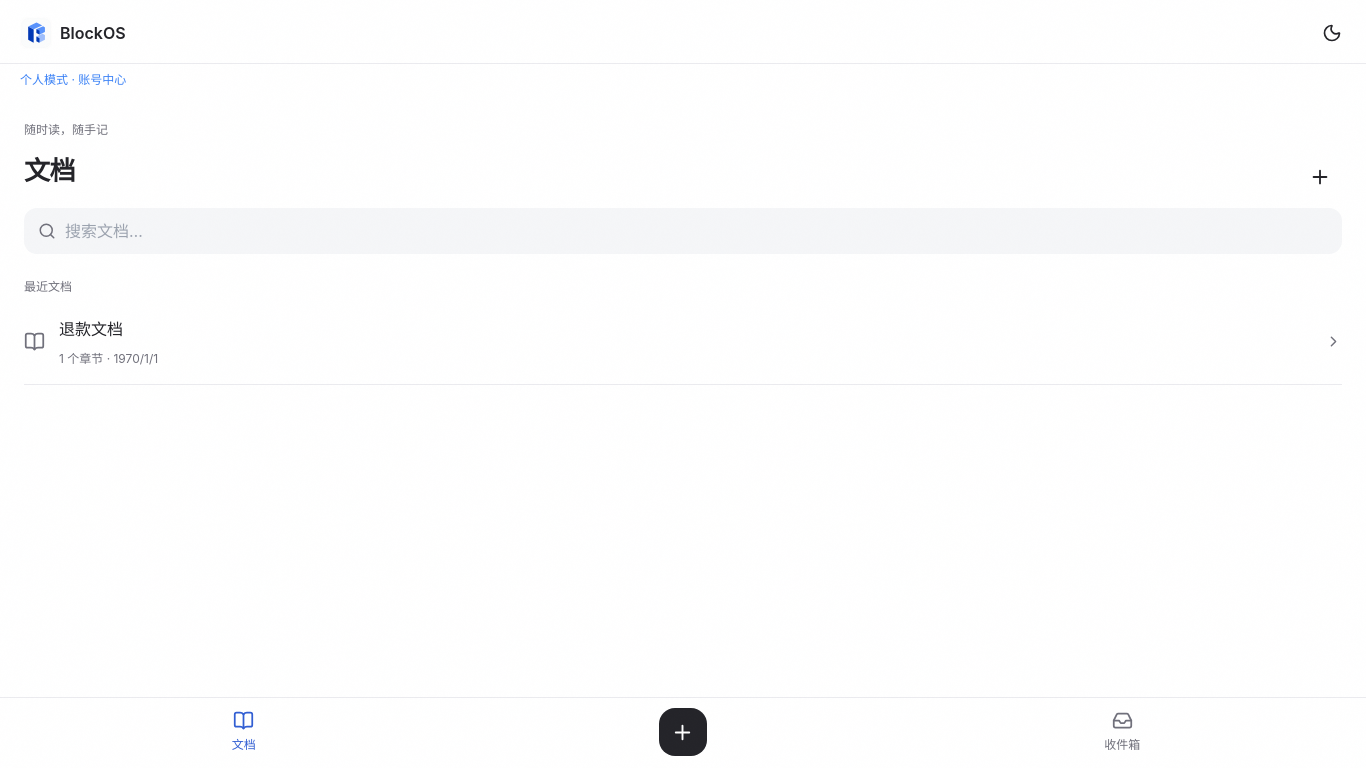
Test: Mobile reading, light editing and quick capture › reads multiple blocks in one chapter and updates text without moving desktop blocks
Click the button "退款文档 1 个章节 · 1970/1/1" at (91, 329), box [24, 300, 1342, 385]
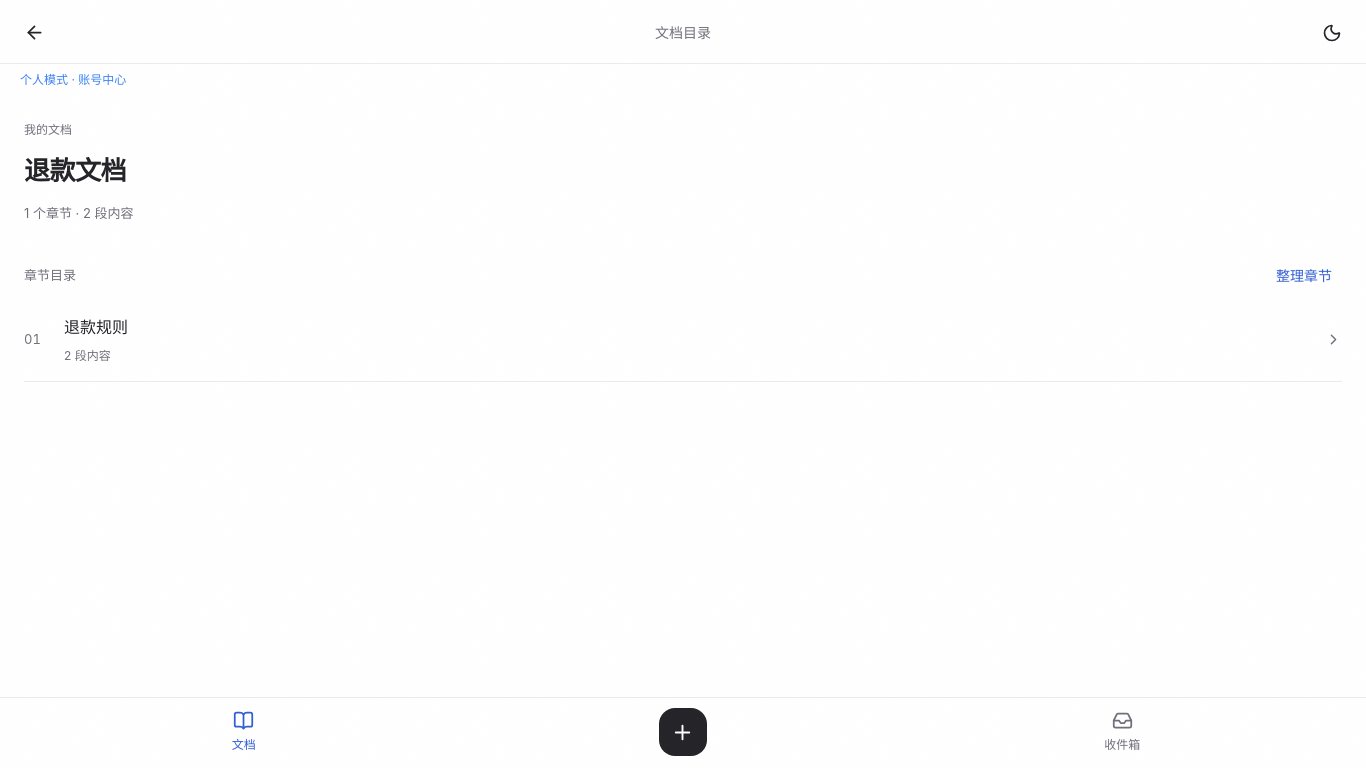
Click the button "01 退款规则 2 段内容" at (96, 327), box [24, 298, 1342, 382]
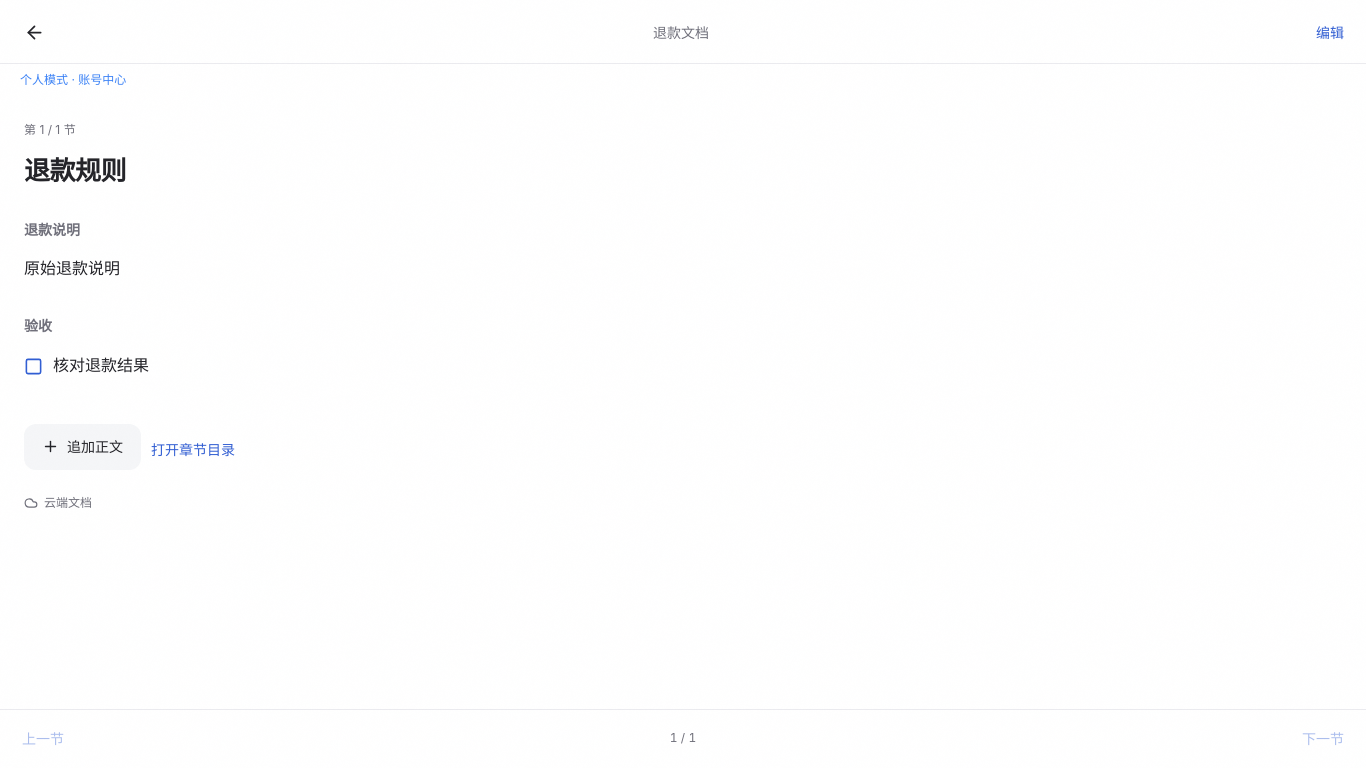
Now the text "原始退款说明" is shown, box [24, 258, 120, 278]
Now the text "核对退款结果" is shown, box [53, 350, 149, 380]
Click the button "编辑" at (1330, 32), box [1306, 10, 1354, 54]
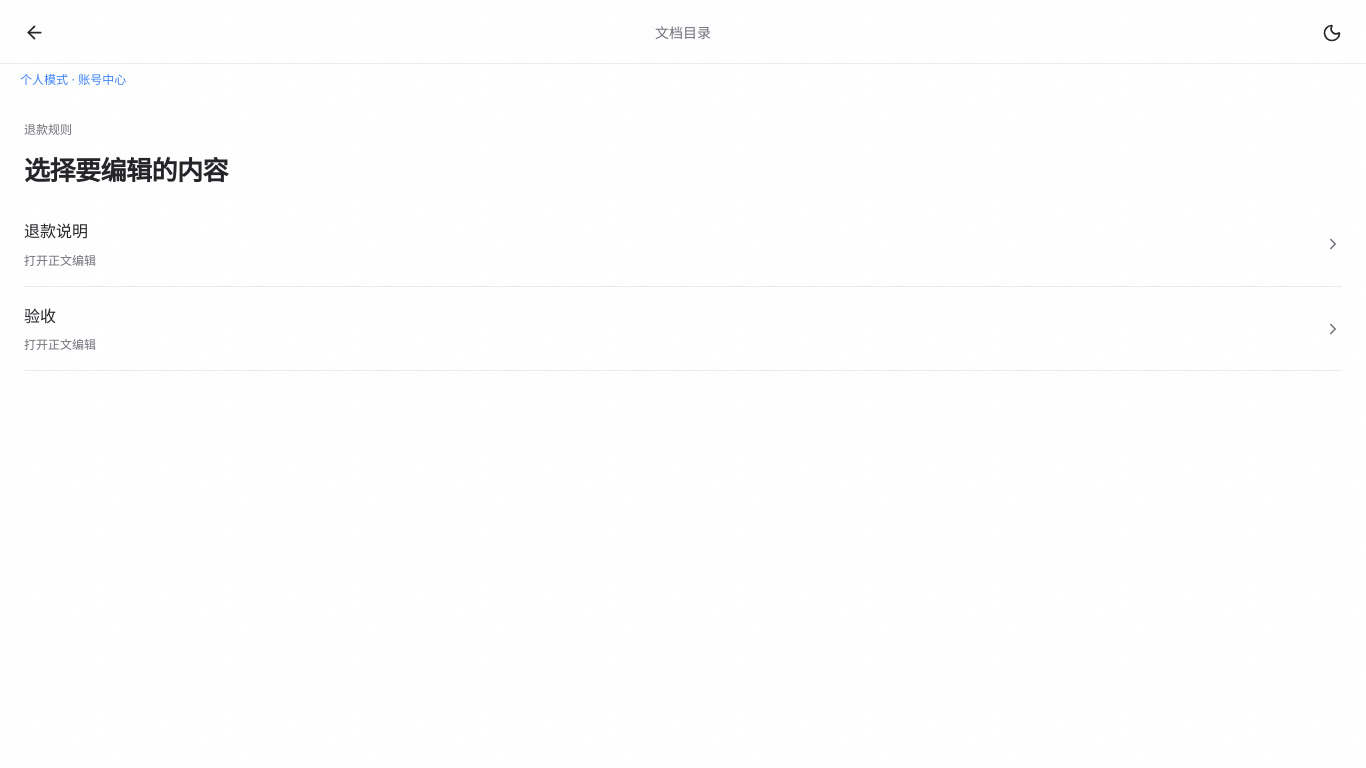
Click the button "退款说明 打开正文编辑" at (56, 231), box [24, 202, 1342, 287]
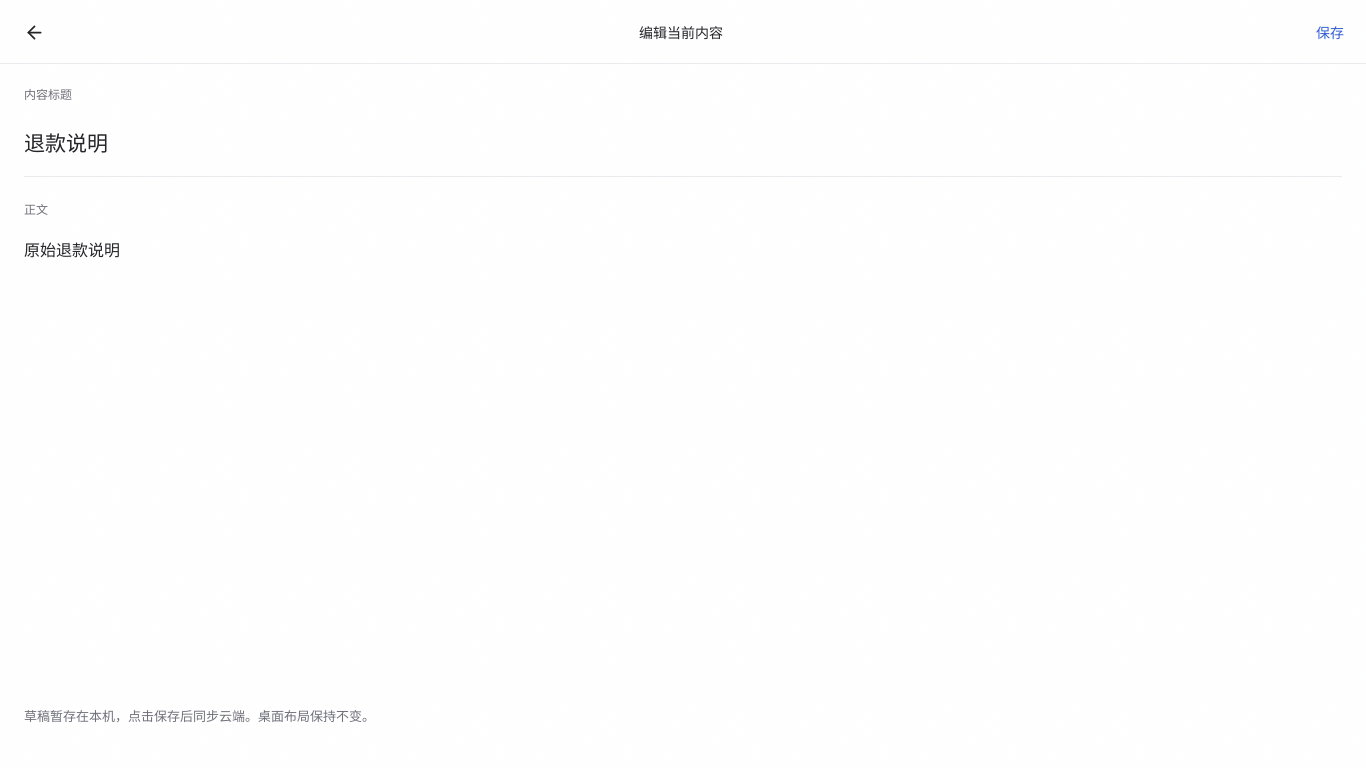
Replace the text in the text box labelled "正文" with "手机上更新的退款说明" at (683, 456), box [24, 231, 1342, 681]
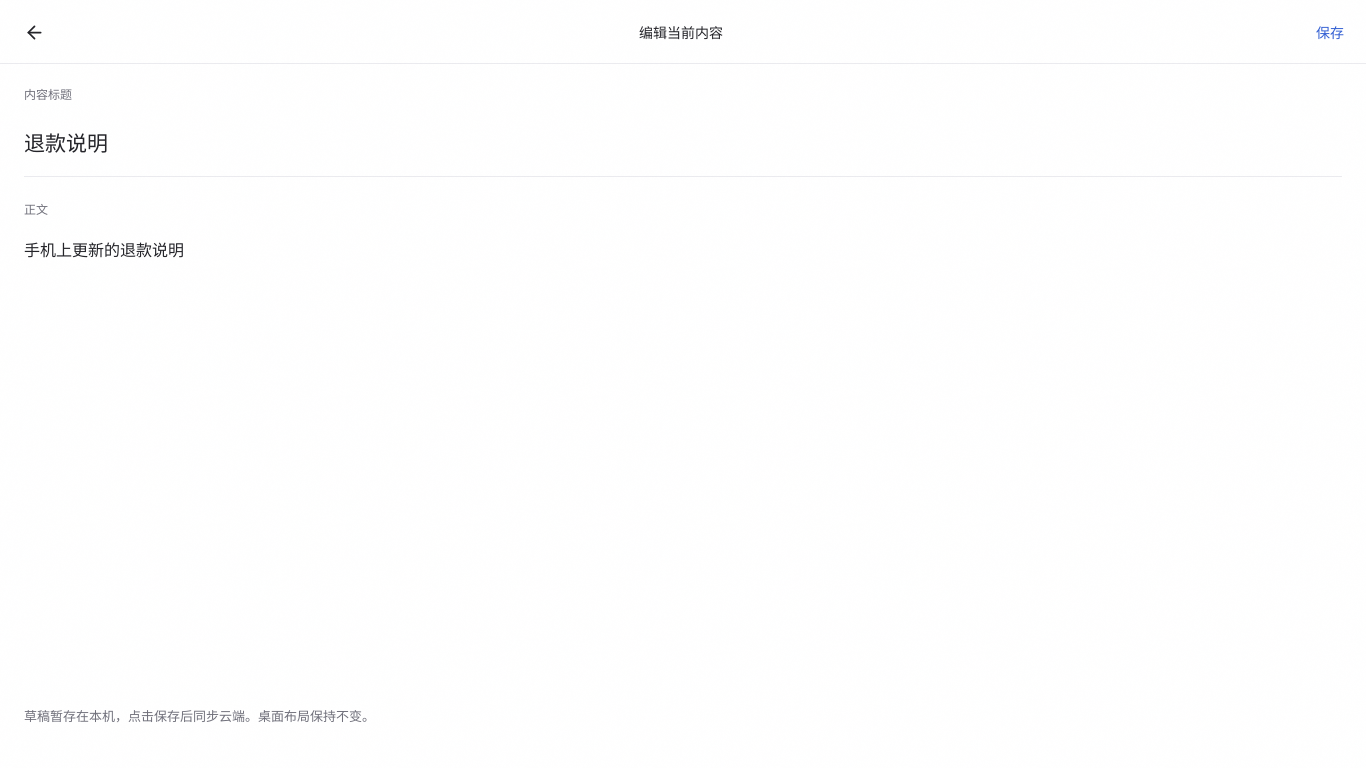
Click the button "保存" at (1330, 32), box [1306, 10, 1354, 54]
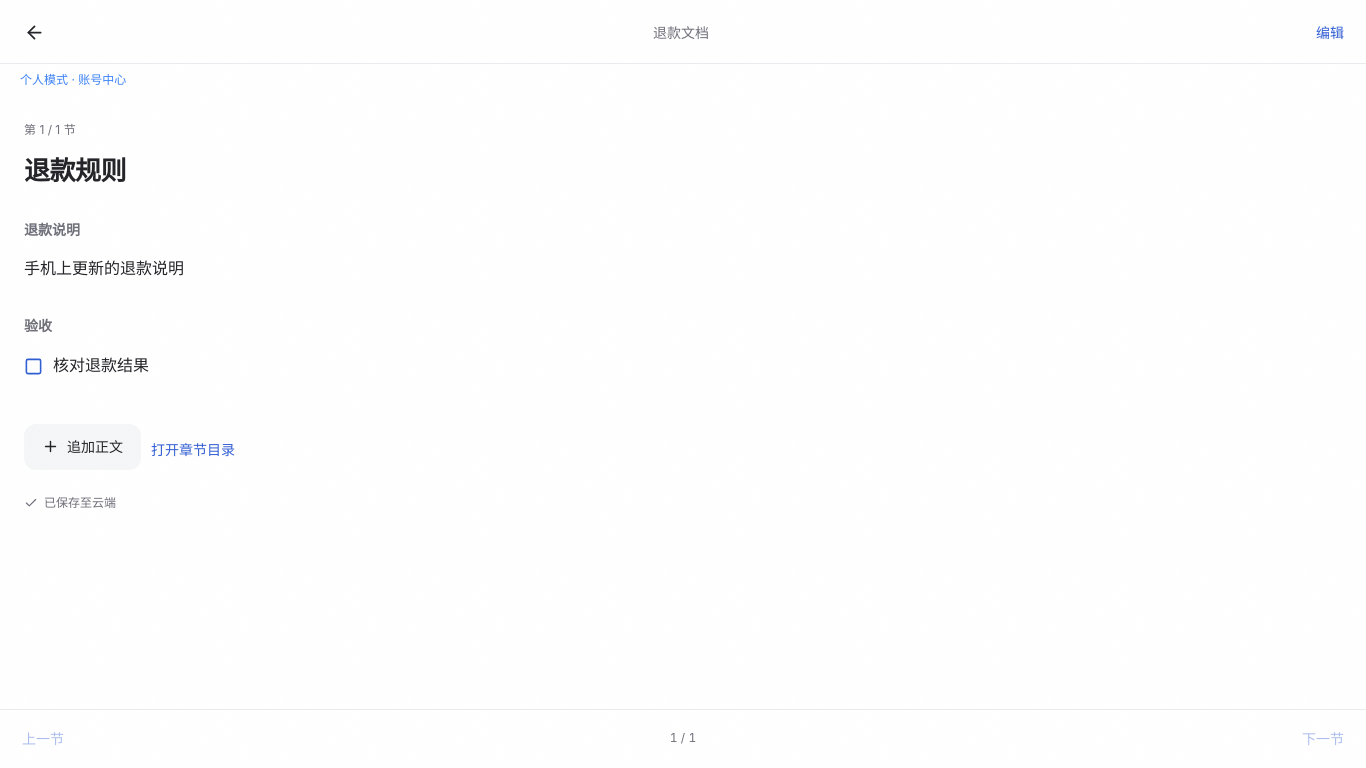
Now the text "已保存至云端" is shown, box [24, 495, 116, 510]
Now the button "打开章节目录" is shown, box [141, 428, 245, 472]
